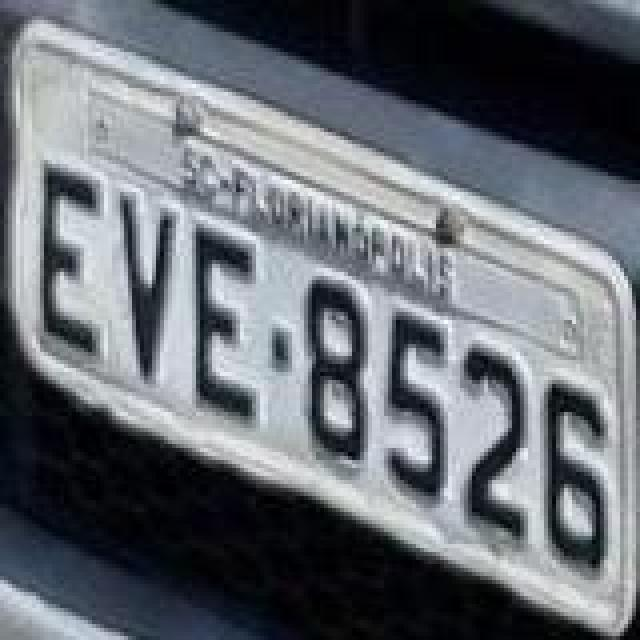2: (464, 352, 528, 544)
5: (386, 312, 446, 504)
6: (544, 376, 608, 568)
8: (306, 280, 366, 464)
E: (192, 226, 256, 422), (42, 164, 102, 356)
V: (122, 192, 182, 384)
